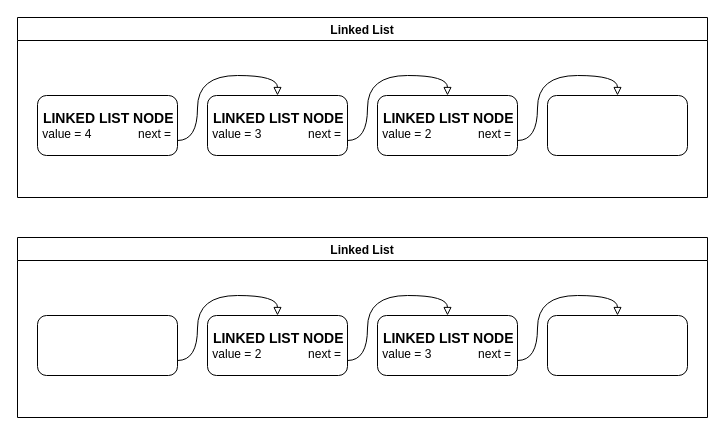
Some shapes in this 725 by 435 pixel diagram are drawn without their labels. The shapes that lost their labels are listed below. From the top down, each one's box as (x1, y1, x2, y2) in pixels, then its label:
(546, 94, 688, 156): LINKED LIST NODE value = 1 next = None
(36, 314, 178, 376): LINKED LIST NODE value = 1 next =
(546, 314, 688, 376): LINKED LIST NODE value = 4 next = None
